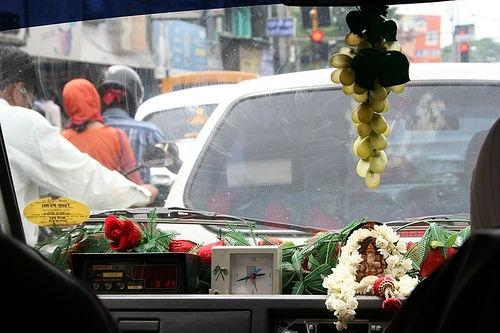grape: (330, 0, 410, 189), (370, 84, 388, 101), (356, 157, 370, 177), (380, 150, 388, 164)
